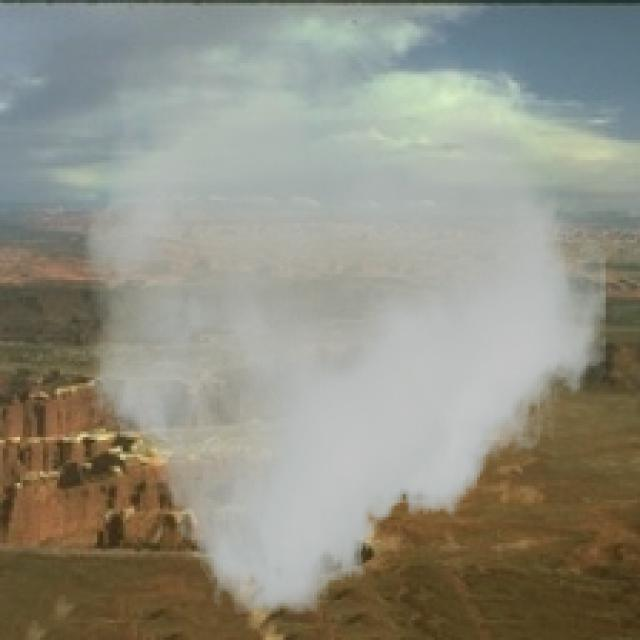Smoke: (83, 46, 606, 614)
